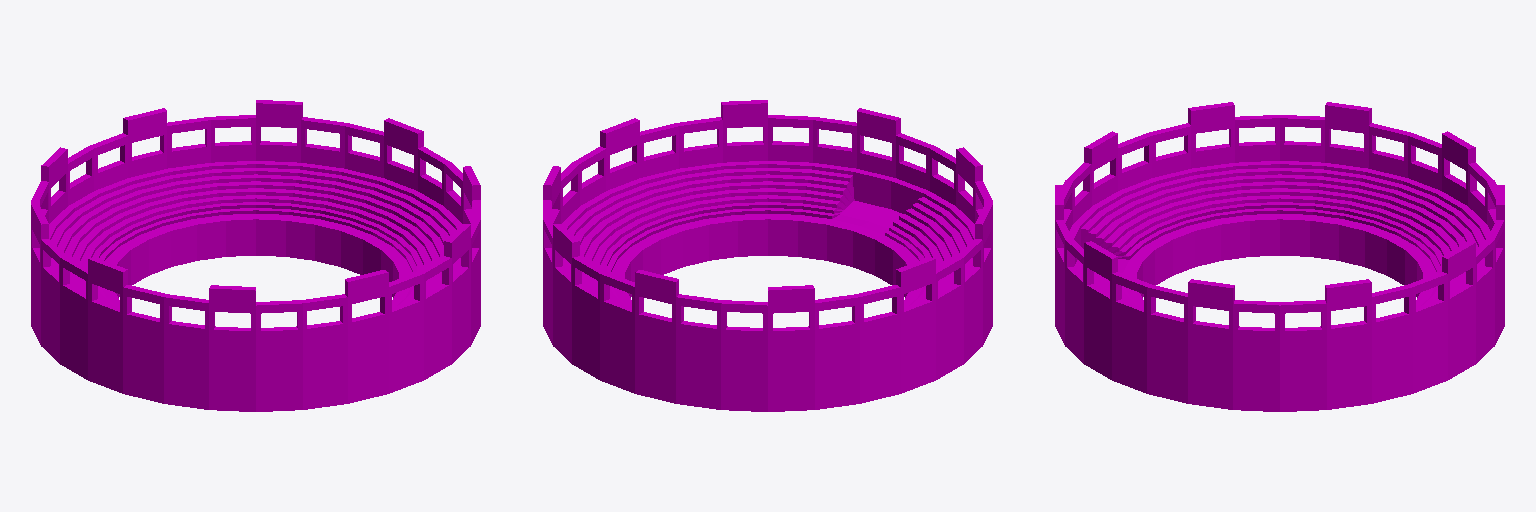
File: Arena.obj
3 views of the same model, side by side, from view 1: azimuth 30°, elevation 25°; view 2: azimuth 150°, elevation 25°; view 3: azimuth 270°, elevation 25° (orthographic).
Visible parts, largest first — view 1: Arena_Arena; view 2: Arena_Arena; view 3: Arena_Arena.
Part boxes in pixels (x1,y1,x2,y2): Arena_Arena: (31,100,480,411); Arena_Arena: (543,100,992,411); Arena_Arena: (1055,102,1504,411).
Bounding box in the file's own units: 31.84 × 9.47 × 31.66.